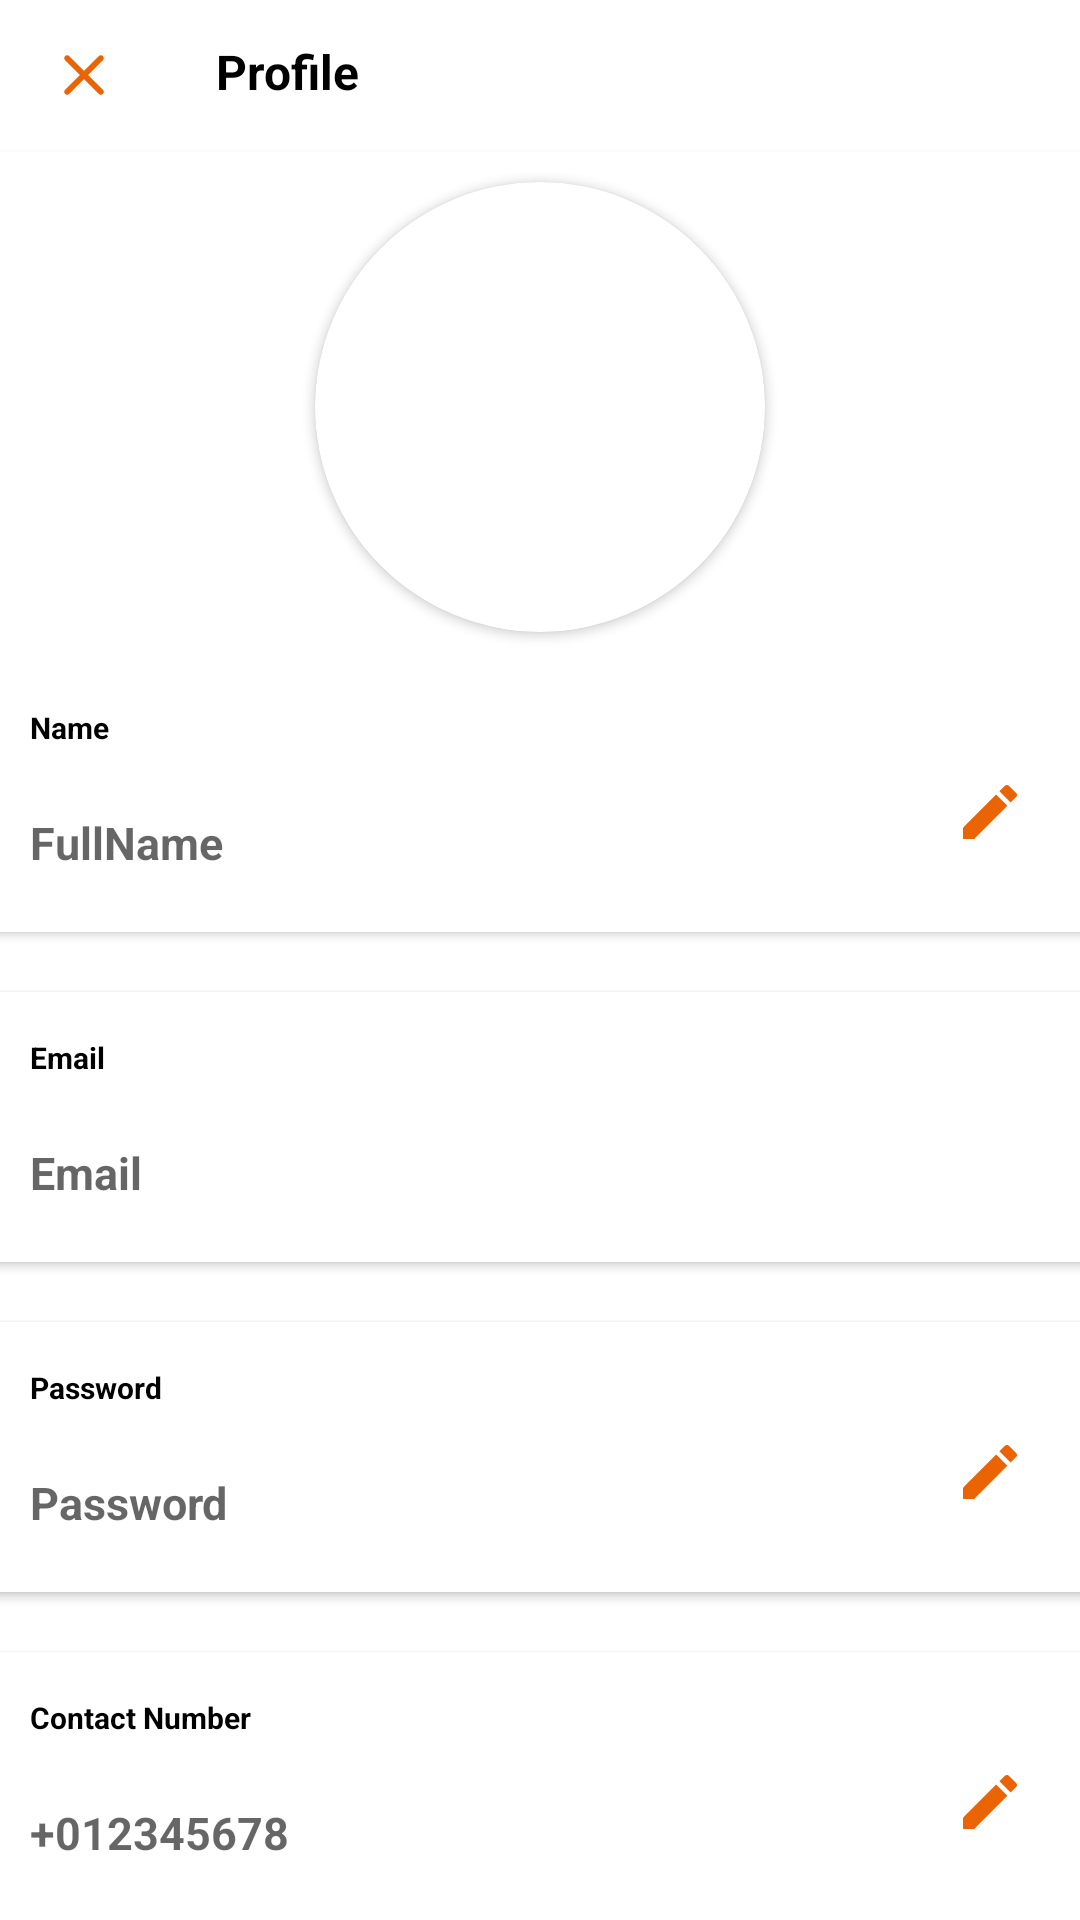

Icon bounding boxes for this 1080 x 1920 phone screenshot, format {"left": x1, "top": y1, "right": x2, "bottom": y2}:
clear: {"left": 64, "top": 55, "right": 104, "bottom": 95}
edit: {"left": 963, "top": 785, "right": 1017, "bottom": 839}, {"left": 963, "top": 1445, "right": 1017, "bottom": 1499}, {"left": 963, "top": 1775, "right": 1017, "bottom": 1829}
